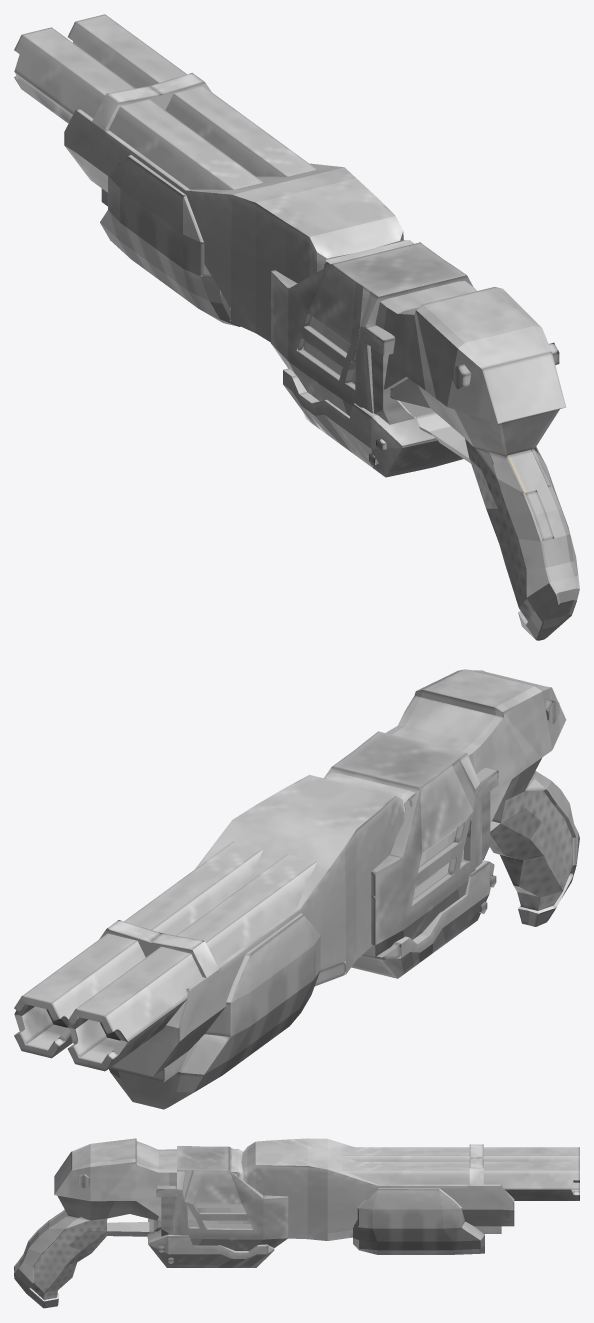
The model's file is CyberShotgun.fbx.
3 renders of one model, top to bottom at view 1: azimuth 30°, elevation 25°; view 2: azimuth 150°, elevation 25°; view 3: azimuth 270°, elevation 25°, orthographic. The views are drawn at different scales.
Visible parts, largest first — view 1: Base (Secondary), Barrel (Primary), BodyCover (Primary), Base (Primary), Pump (Secondary), BottomPanel (Secondary), BodyCover (Glow); view 2: Base (Secondary), Barrel (Primary), BodyCover (Primary), Pump (Secondary), BottomPanel (Secondary), Base (Primary), BodyCover (Glow); view 3: Base (Secondary), Barrel (Primary), BodyCover (Primary), Pump (Secondary), Base (Primary), BottomPanel (Secondary), BodyCover (Glow).
Boxes of the visible parts, x1,y1,x2,y2 form: Base (Secondary): [64, 73, 565, 621]; Barrel (Primary): [14, 14, 316, 189]; BodyCover (Primary): [271, 242, 473, 424]; Base (Primary): [392, 378, 579, 640]; Pump (Secondary): [100, 155, 240, 326]; BottomPanel (Secondary): [283, 357, 463, 477]; BodyCover (Glow): [303, 316, 355, 383]; Base (Secondary): [99, 669, 572, 1081]; Barrel (Primary): [14, 841, 317, 1071]; BodyCover (Primary): [324, 731, 498, 959]; Pump (Secondary): [109, 913, 320, 1109]; BottomPanel (Secondary): [351, 857, 494, 978]; Base (Primary): [501, 758, 579, 926]; BodyCover (Glow): [413, 828, 463, 899]; Base (Secondary): [30, 1138, 514, 1299]; Barrel (Primary): [342, 1147, 579, 1200]; BodyCover (Primary): [156, 1146, 288, 1250]; Pump (Secondary): [353, 1188, 484, 1254]; Base (Primary): [14, 1195, 158, 1308]; BottomPanel (Secondary): [147, 1218, 274, 1267]; BodyCover (Glow): [187, 1204, 252, 1228].
Size of the model in its own units: 62.5 by 130 by 418.
Materials: 3 (3 with a texture image).
